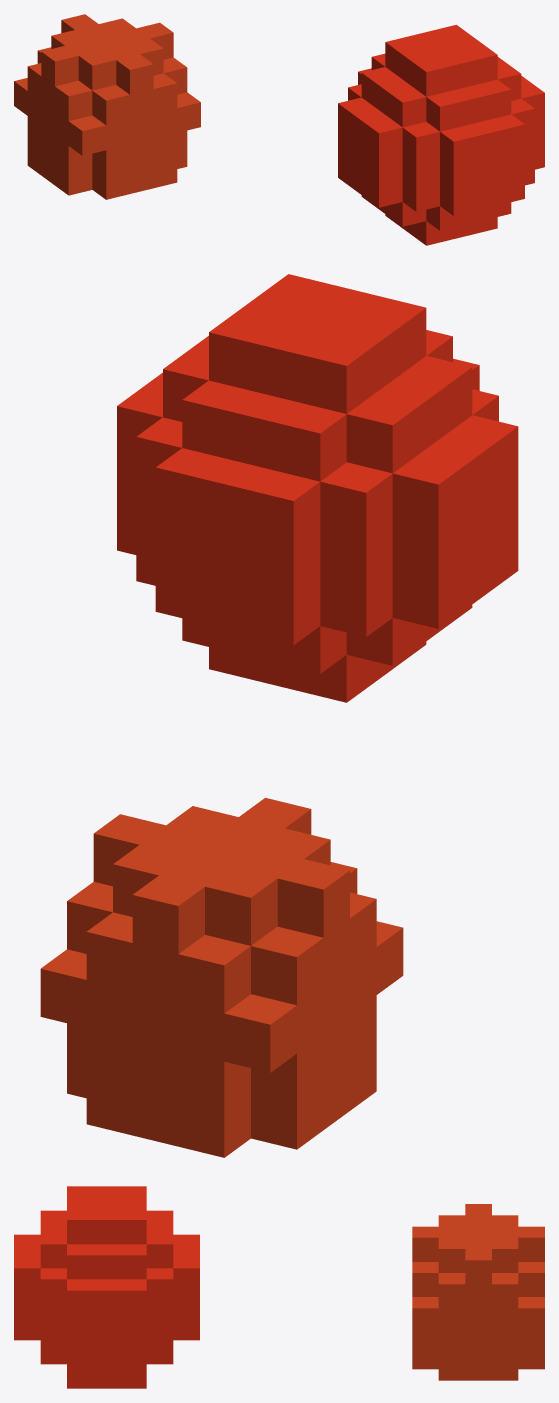
File: exite1 (stone5).obj
3 renders of one model, top to bottom at view 1: azimuth 30°, elevation 25°; view 2: azimuth 150°, elevation 25°; view 3: azimuth 270°, elevation 25°, orthographic. The views are drawn at different scales.
Bounding box in the file's own units: 1.2 × 0.9 × 2.
Materials: 1 (1 with a texture image).
